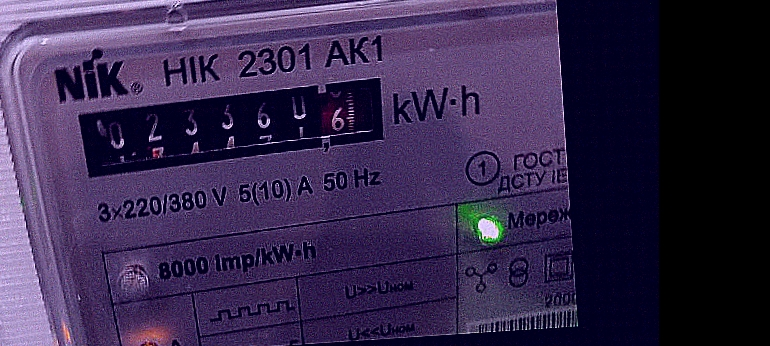0: (104, 116, 128, 151), (285, 90, 309, 122)
2: (142, 109, 164, 143)
3: (216, 97, 237, 131), (178, 105, 199, 138)
6: (251, 96, 274, 131), (326, 100, 349, 135)
screen: (60, 67, 403, 184)
